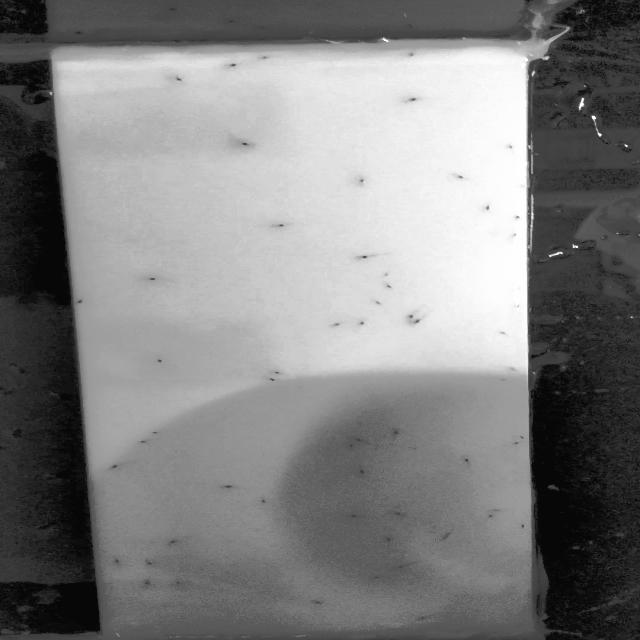shrimp: (344, 172, 376, 189), (398, 91, 428, 109), (253, 51, 286, 66), (235, 135, 259, 155), (492, 141, 522, 157), (440, 170, 474, 184), (221, 56, 247, 74), (266, 216, 294, 232), (166, 71, 189, 89), (396, 49, 424, 62), (105, 554, 130, 568), (478, 202, 502, 216), (370, 298, 390, 312), (356, 252, 381, 263), (389, 426, 409, 439), (326, 320, 351, 330), (484, 505, 509, 515), (351, 464, 370, 477), (143, 272, 160, 286), (411, 318, 434, 328), (139, 579, 162, 589), (152, 355, 172, 366), (492, 374, 512, 385), (163, 539, 184, 549), (218, 481, 236, 492), (506, 438, 524, 449), (460, 453, 476, 465), (312, 598, 329, 609), (348, 434, 374, 441), (377, 271, 397, 280), (342, 441, 361, 450), (348, 320, 371, 327), (260, 374, 280, 382), (107, 462, 123, 472), (380, 280, 395, 290), (257, 496, 272, 506), (367, 572, 382, 582), (416, 614, 431, 624), (150, 426, 162, 438), (391, 508, 407, 517), (496, 328, 510, 338), (73, 298, 90, 306), (134, 438, 150, 446), (349, 512, 364, 520), (172, 578, 186, 586), (406, 312, 418, 321), (518, 521, 530, 530), (397, 564, 410, 572), (146, 560, 158, 568), (270, 370, 285, 376), (485, 512, 495, 520), (383, 534, 390, 544)
